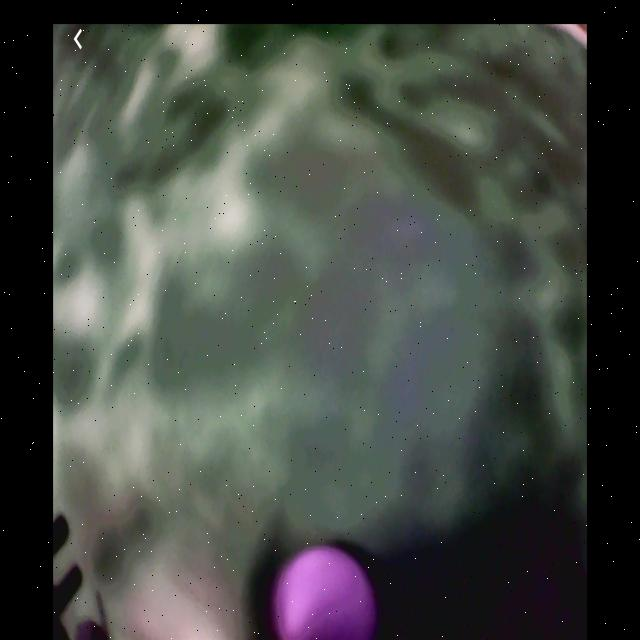ball: (279, 546, 377, 640)
